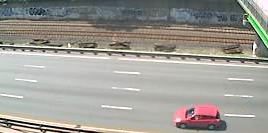car: (173, 102, 223, 131)
